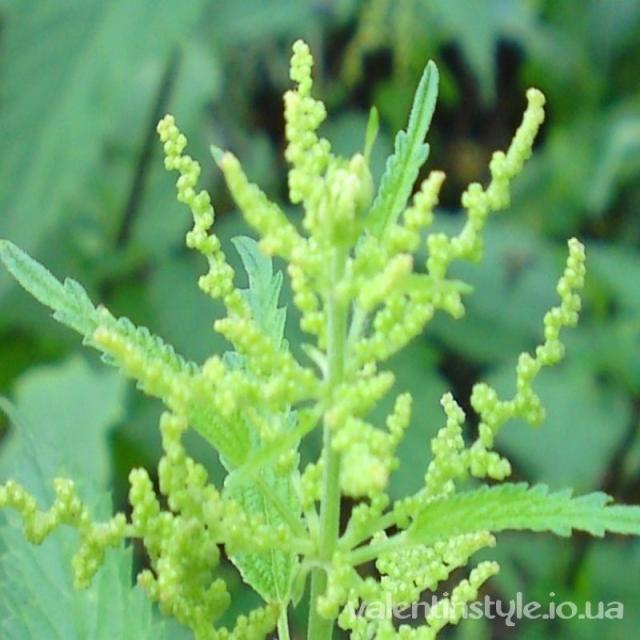ambrosia: (148, 65, 514, 616)
